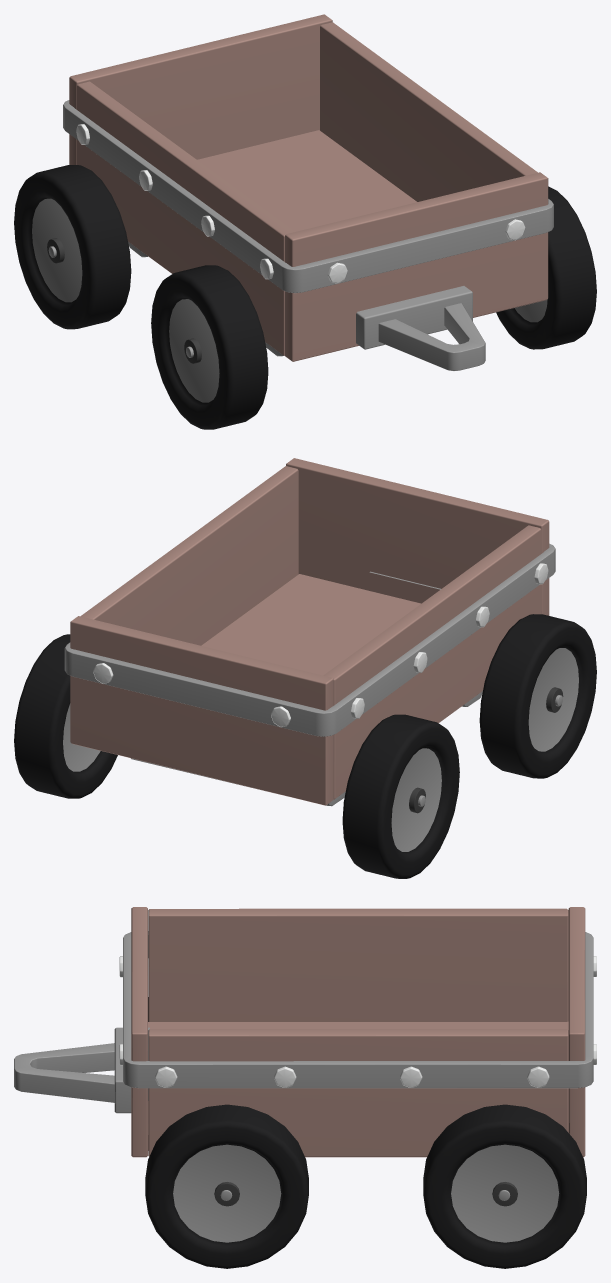
Rendered from Farm_8_Trailer_1.glb.
The picture shows the model from 3 angles, top to bottom: view 1: azimuth 30°, elevation 25°; view 2: azimuth 150°, elevation 25°; view 3: azimuth 270°, elevation 25°; orthographic projection.
Parts seen in each view (by area): view 1: Farm_8_Trailer_1; view 2: Farm_8_Trailer_1; view 3: Farm_8_Trailer_1.
Boxes of the visible parts, x1,y1,x2,y2 form: Farm_8_Trailer_1: (14, 14, 596, 429); Farm_8_Trailer_1: (14, 458, 596, 878); Farm_8_Trailer_1: (14, 907, 596, 1268).
Size of the model in its own units: 3.42 by 1.82 by 4.6.
Materials: 1 (1 with a texture image).
